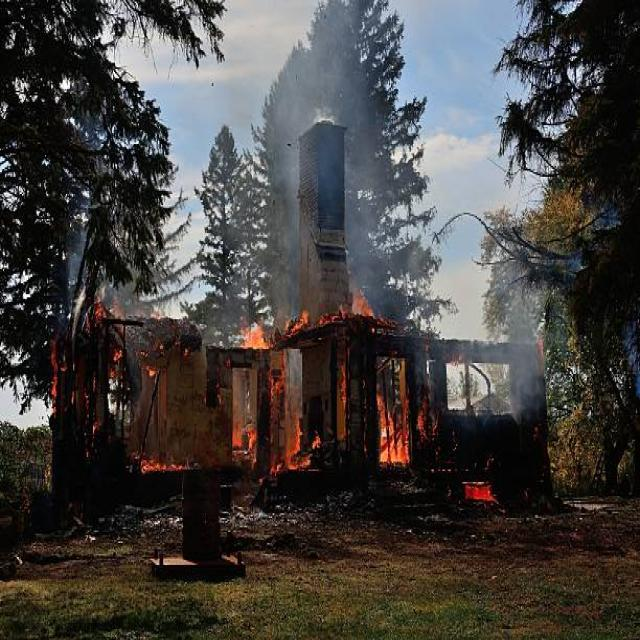Fire: (226, 410, 326, 470), (232, 314, 298, 392), (290, 292, 376, 334), (376, 388, 418, 468)
